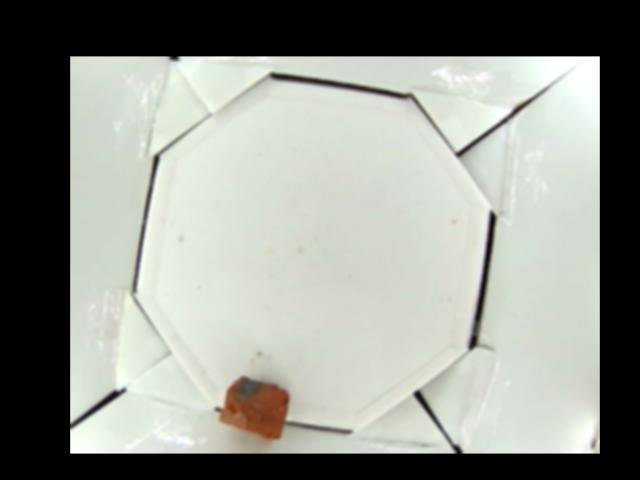Brisk: (219, 376, 287, 439)
